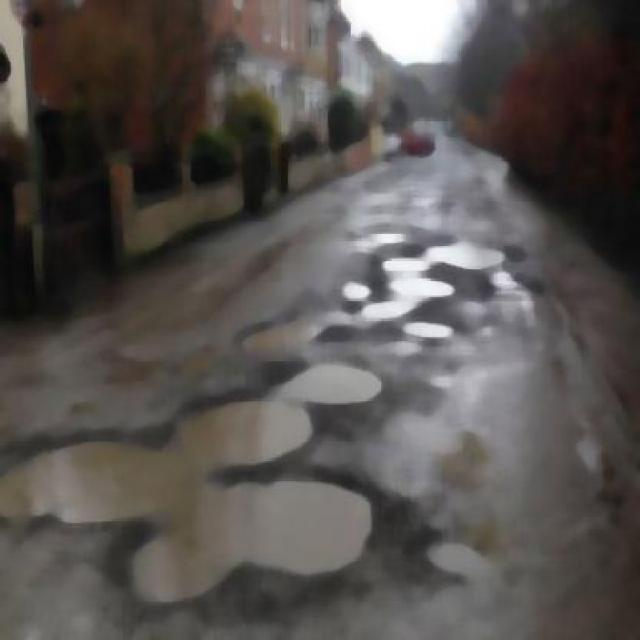Pothole: (0, 306, 368, 619), (360, 213, 538, 341)
